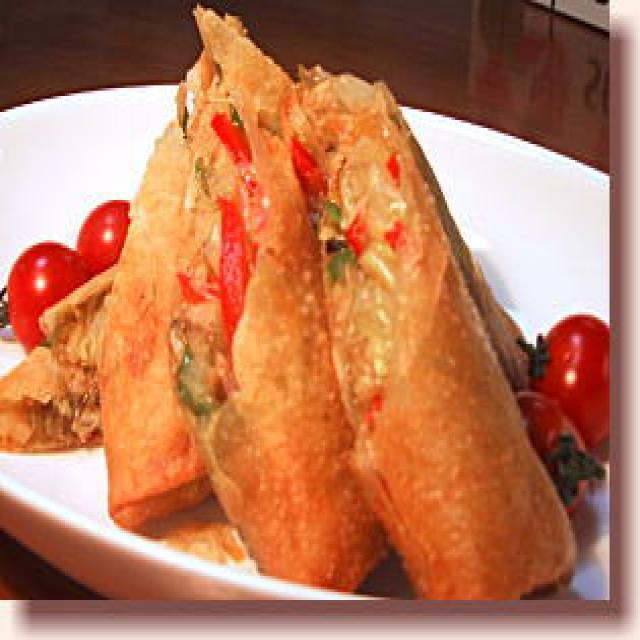鸡蛋料理: (0, 0, 575, 597)
